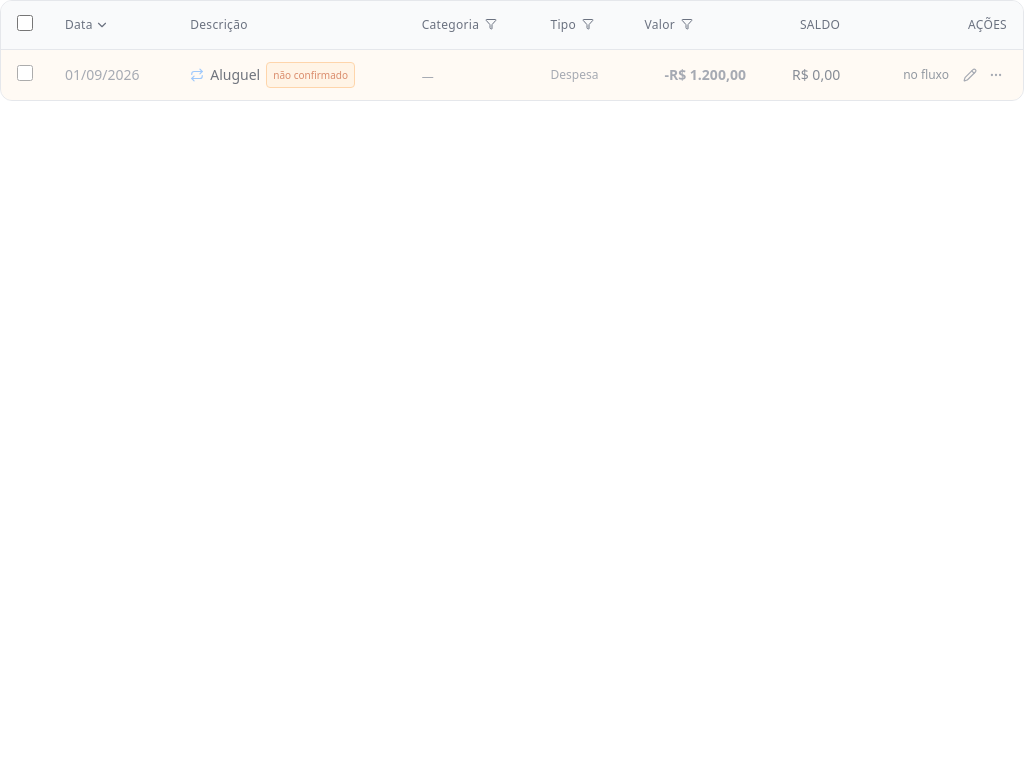
diálogo de cancelar recorrência › oferece limpar as vencidas, desmarcado
Step 1. Click the button named "Mais ações" → (996,75), box [985, 64, 1007, 86]
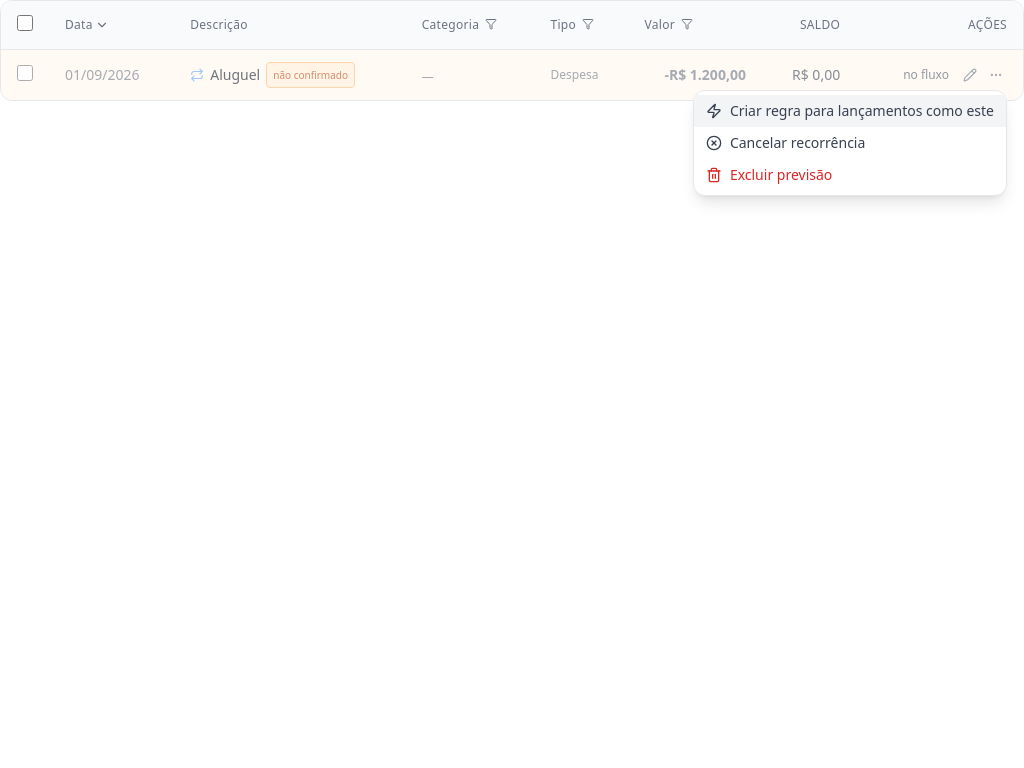
Step 2. Click the menu item "Cancelar recorrência" → (850,143), box [694, 127, 1006, 159]
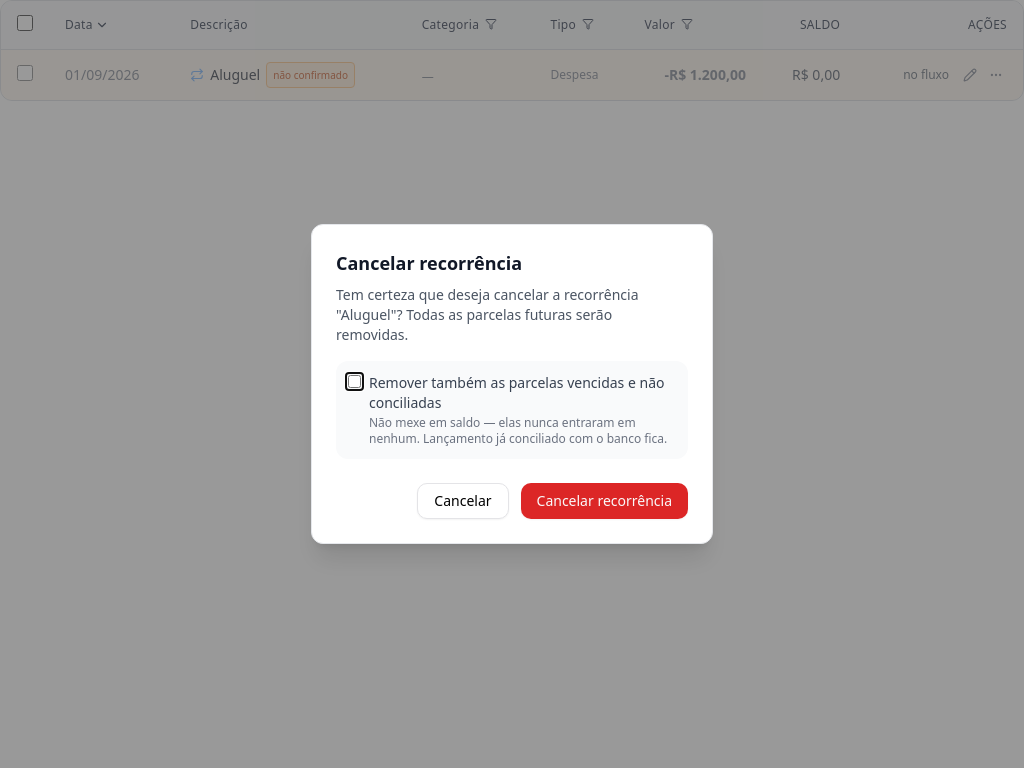
Expected: the checkbox labelled "vencidas e não conciliadas" is not checked, [348, 375, 361, 388]
